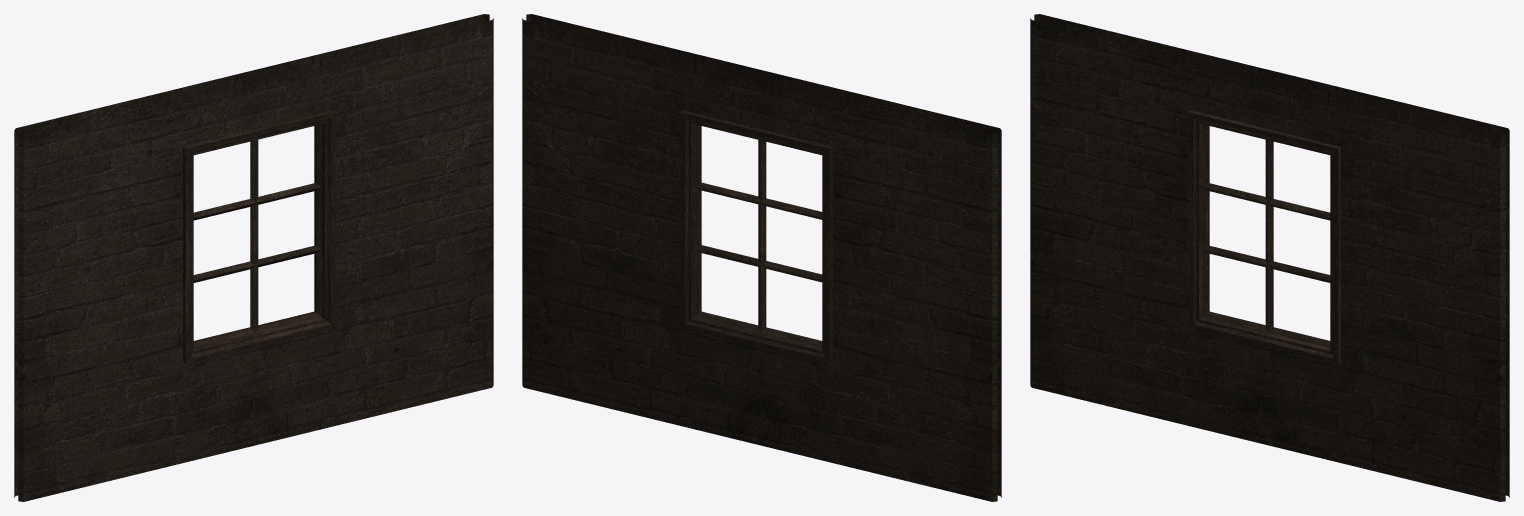
File: window_1_single_no_glass.glb
3 views of the same model, side by side, from view 1: azimuth 30°, elevation 25°; view 2: azimuth 150°, elevation 25°; view 3: azimuth 330°, elevation 25° (orthographic).
Visible parts, largest first — view 1: window_1_single_no_glass; view 2: window_1_single_no_glass; view 3: window_1_single_no_glass.
Part boxes in pixels (x1,y1,x2,y2): window_1_single_no_glass: (14,14,493,501); window_1_single_no_glass: (522,14,1001,501); window_1_single_no_glass: (1030,14,1509,501).
Size of the model in its own units: 4.06 by 3 by 0.2.
Materials: 2 (2 with a texture image).
